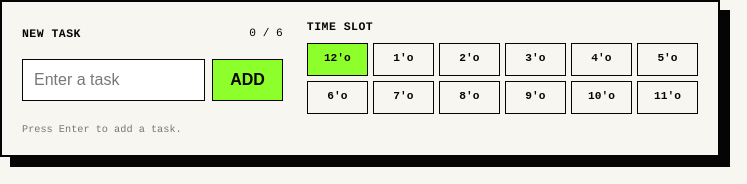
Scenario: TodoComposer › shows the validation error returned for an empty task
The width and height of the screenshot is (747, 184).
Click the button "ADD". click: x=247, y=80
box: [212,58,283,100]
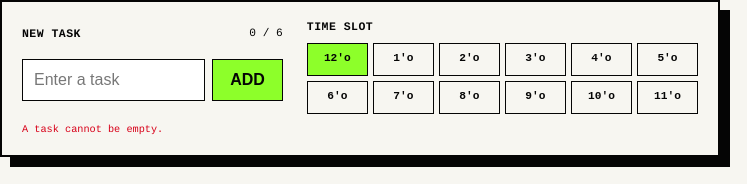
Expected: the message reads "A task cannot be empty.", [22,124,163,136]
